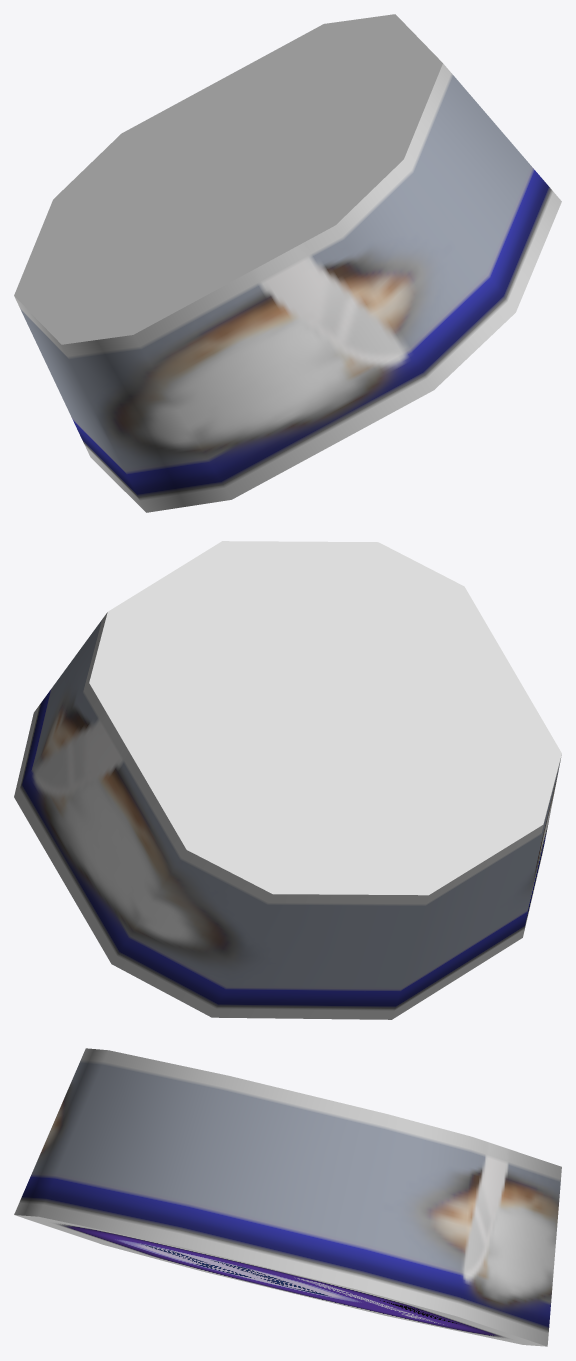
Rendered from H_CreamCheese.fbx.
3 renders of one model, top to bottom at view 1: azimuth 30°, elevation 25°; view 2: azimuth 150°, elevation 25°; view 3: azimuth 270°, elevation 25°, orthographic. The views are drawn at different scales.
Parts seen in each view (by area): view 1: Creamcheese; view 2: Creamcheese; view 3: Creamcheese.
Part boxes in pixels (box(x1,y1,x2,y2)): Creamcheese: box(14, 14, 561, 512); Creamcheese: box(14, 541, 561, 1019); Creamcheese: box(14, 1048, 561, 1346).
Bounding box in the file's own units: 18.37 × 13.77 × 18.93.
